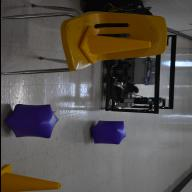cone: (78, 26, 151, 64), (0, 164, 61, 192)
cube: (3, 104, 57, 138), (90, 120, 126, 144)
